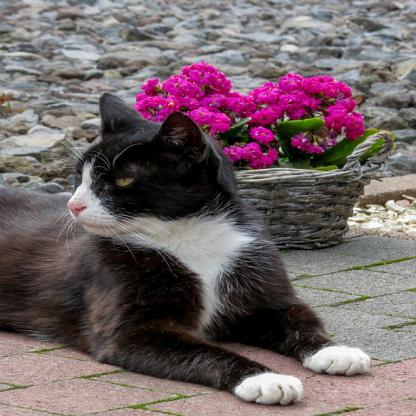cat: (0, 94, 372, 406)
